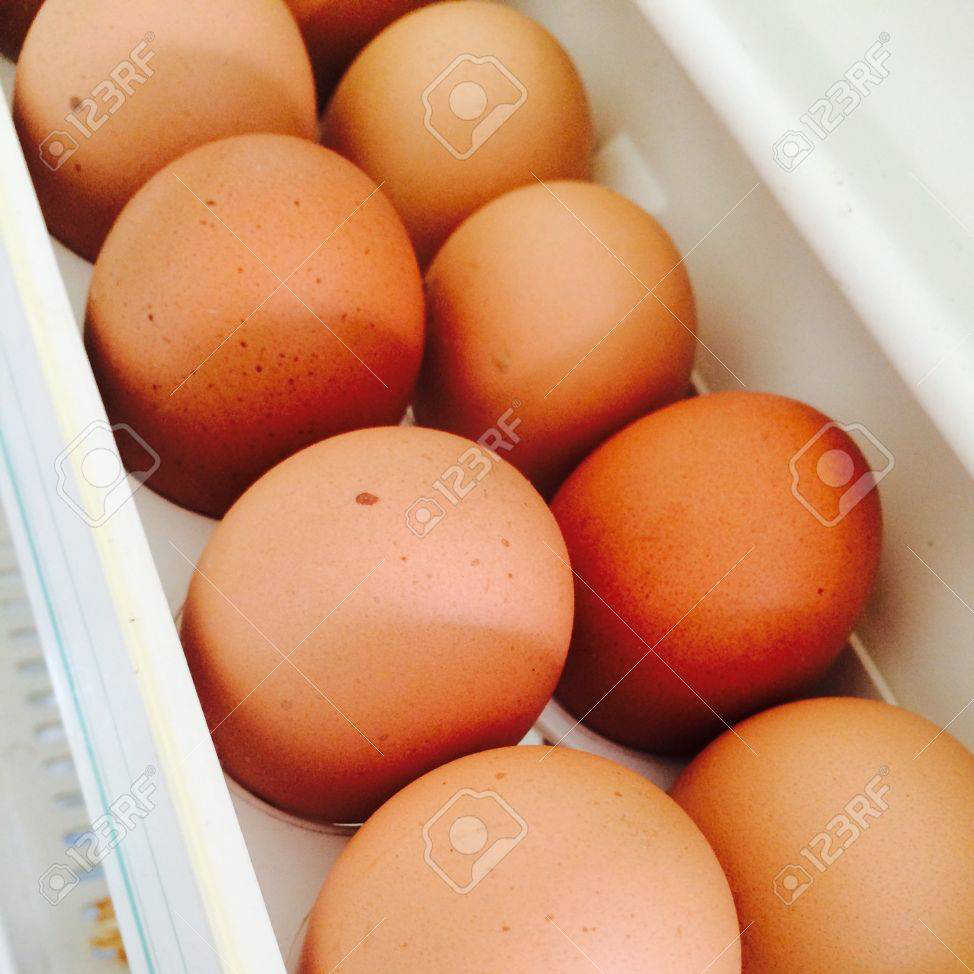egg: (10, 2, 974, 970)
